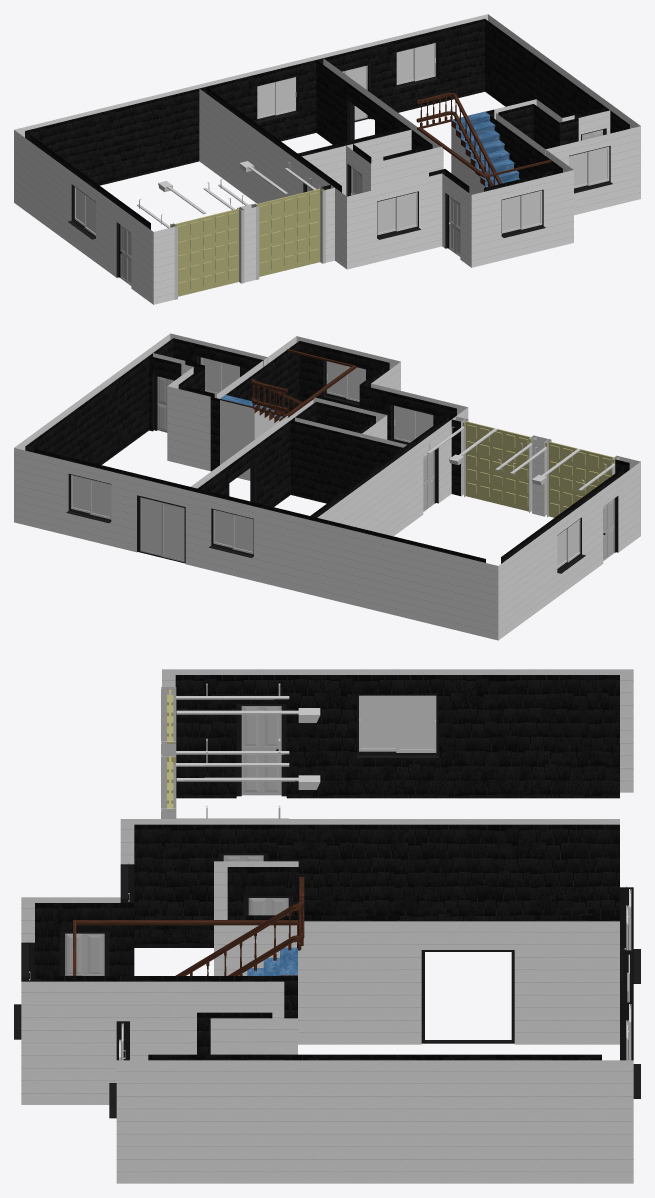
File: 1stFloor_Walls.fbx
3 renders of one model, top to bottom at view 1: azimuth 30°, elevation 25°; view 2: azimuth 150°, elevation 25°; view 3: azimuth 270°, elevation 25°, orthographic. The views are drawn at different scales.
Parts seen in each view (by area): view 1: Wall_3m.002, Staircase.003, Door.003, Door.004, Window_Wall.014, Window_Wall.004, Window_Wall.006, Window_Wall.002, Wall_3m.001, Wall_3m.009, Wall_3m.010, Wall_3m.008 (+54 smaller); view 2: Wall_3m.002, Wall_3m.001, Window_Wall.002, Door.003, Window_Wall.004, Staircase.003, Wall_3m.009, Wall_2m.003, Wall_2m.010, Door.004, Wall_3m.005, DoubleDoor_Wall.003 (+51 smaller); view 3: Wall_3m.009, Wall_3m.004, Wall_3m.008, Wall_3m.005, Wall_3m.010, Window_Wall.001, Door_Wall_3m.001, Door_Wall.003, Wall_2m.012, Wall_2m.016, DoubleDoor_Wall.004, Wall_2m.006 (+31 smaller).
Boxes of the visible parts, bbox=[...] form: Wall_3m.002: bbox=[99, 92, 173, 184]; Staircase.003: bbox=[416, 92, 551, 194]; Door.003: bbox=[256, 189, 320, 276]; Door.004: bbox=[175, 208, 238, 296]; Window_Wall.014: bbox=[484, 171, 557, 263]; Window_Wall.004: bbox=[378, 24, 452, 112]; Window_Wall.006: bbox=[363, 175, 432, 265]; Window_Wall.002: bbox=[239, 56, 317, 141]; Wall_3m.001: bbox=[30, 109, 103, 185]; Wall_3m.009: bbox=[23, 135, 70, 238]; Wall_3m.010: bbox=[226, 106, 273, 203]; Wall_3m.008: bbox=[490, 21, 537, 106]; Wall_3m.002: bbox=[339, 524, 414, 618]; Wall_3m.001: bbox=[410, 541, 485, 636]; Window_Wall.002: bbox=[192, 488, 272, 584]; Door.003: bbox=[465, 421, 530, 511]; Window_Wall.004: bbox=[54, 454, 129, 549]; Staircase.003: bbox=[220, 349, 356, 480]; Wall_3m.009: bbox=[501, 527, 548, 633]; Wall_2m.003: bbox=[268, 507, 313, 594]; Wall_2m.010: bbox=[290, 417, 335, 503]; Door.004: bbox=[548, 441, 613, 517]; Wall_3m.005: bbox=[106, 353, 151, 456]; DoubleDoor_Wall.003: bbox=[125, 472, 196, 565]; Wall_3m.009: bbox=[465, 669, 601, 798]; Wall_3m.004: bbox=[329, 1054, 465, 1183]; Wall_3m.008: bbox=[465, 1054, 601, 1183]; Wall_3m.005: bbox=[202, 1054, 329, 1183]; Wall_3m.010: bbox=[393, 819, 529, 921]; Window_Wall.001: bbox=[329, 669, 465, 798]; Door_Wall_3m.001: bbox=[193, 669, 329, 798]; Door_Wall.003: bbox=[162, 819, 311, 947]; Wall_2m.012: bbox=[536, 915, 619, 1044]; Wall_2m.016: bbox=[316, 915, 399, 1044]; DoubleDoor_Wall.004: bbox=[400, 921, 535, 1044]; Wall_2m.006: bbox=[529, 819, 619, 921].
Size of the model in its own units: 2055 by 408 by 1382.
